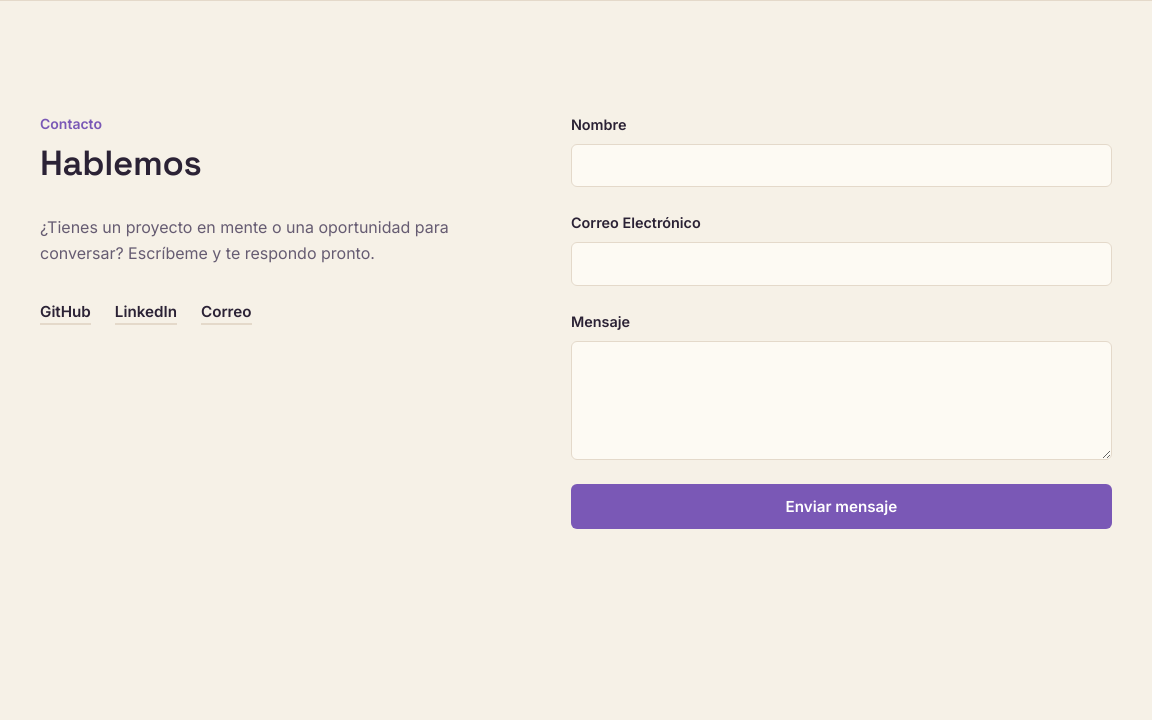
Test: Contact form › flags an invalid email format
In the field labelled "Nombre": (841, 166) [571,144,1112,187], type "Juana"
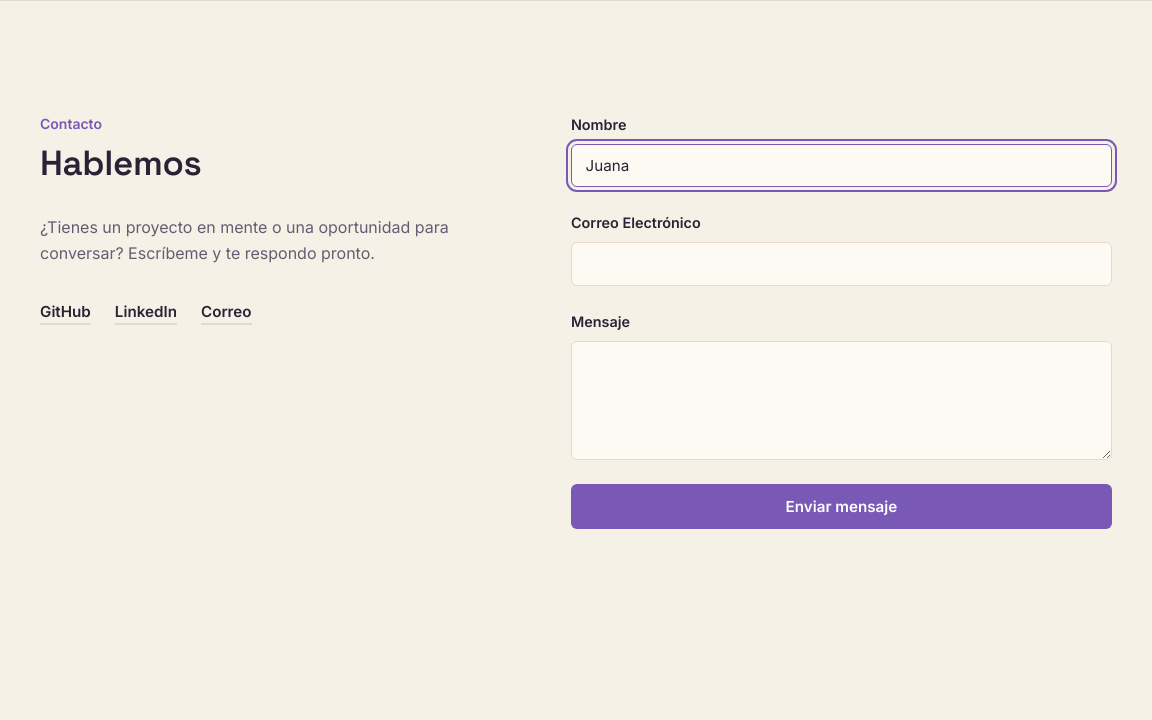
In the field labelled "Correo Electrónico": (841, 264) [571,242,1112,286], type "no-es-un-correo"
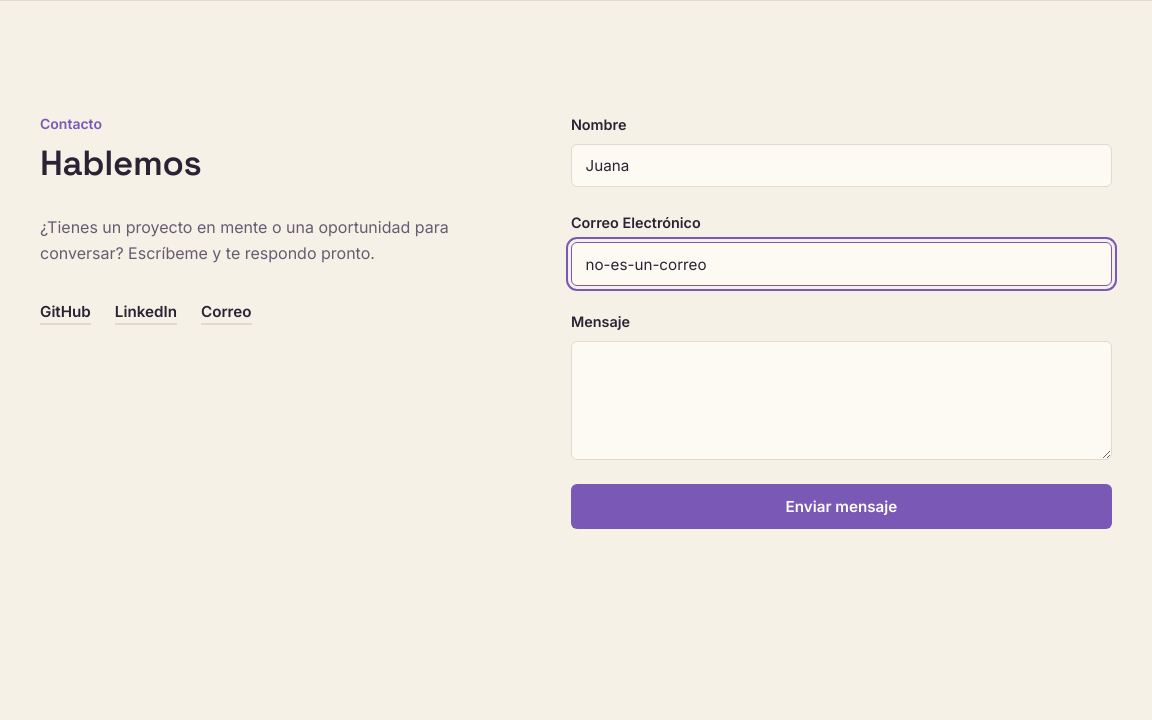
In the text box labelled "Mensaje": (841, 401) [571,341,1112,460], type "Hola, quiero conversar."
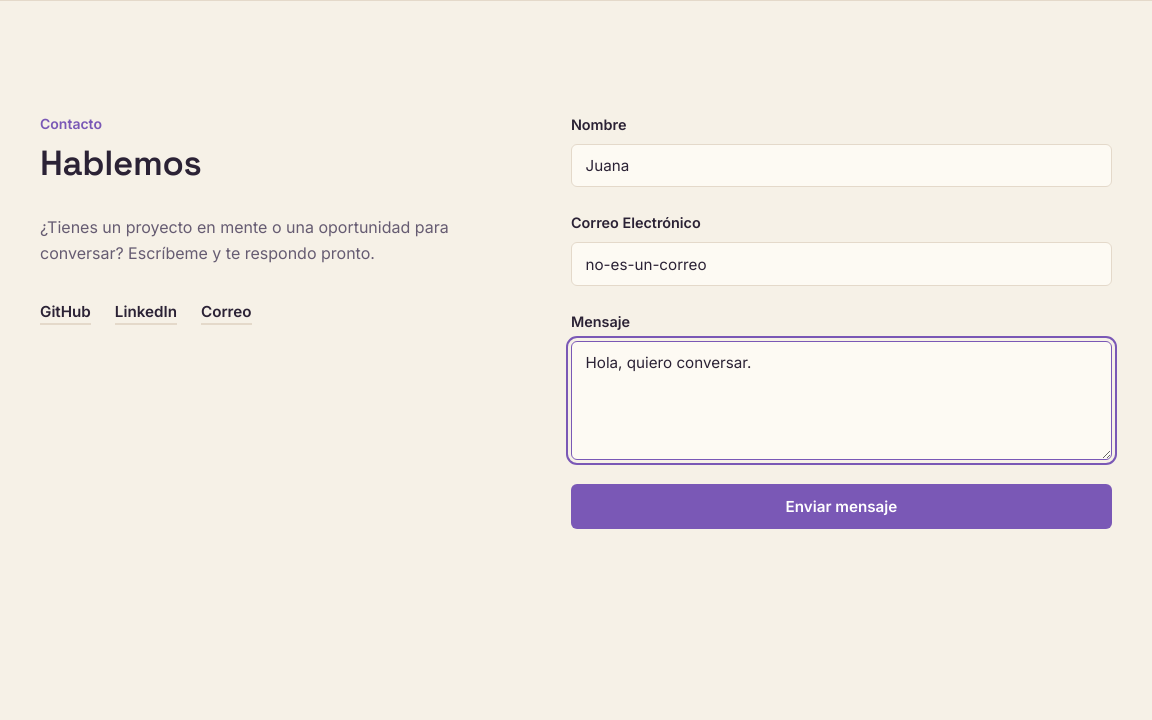
Click the button "Enviar mensaje": (841, 507) [571,484,1112,529]
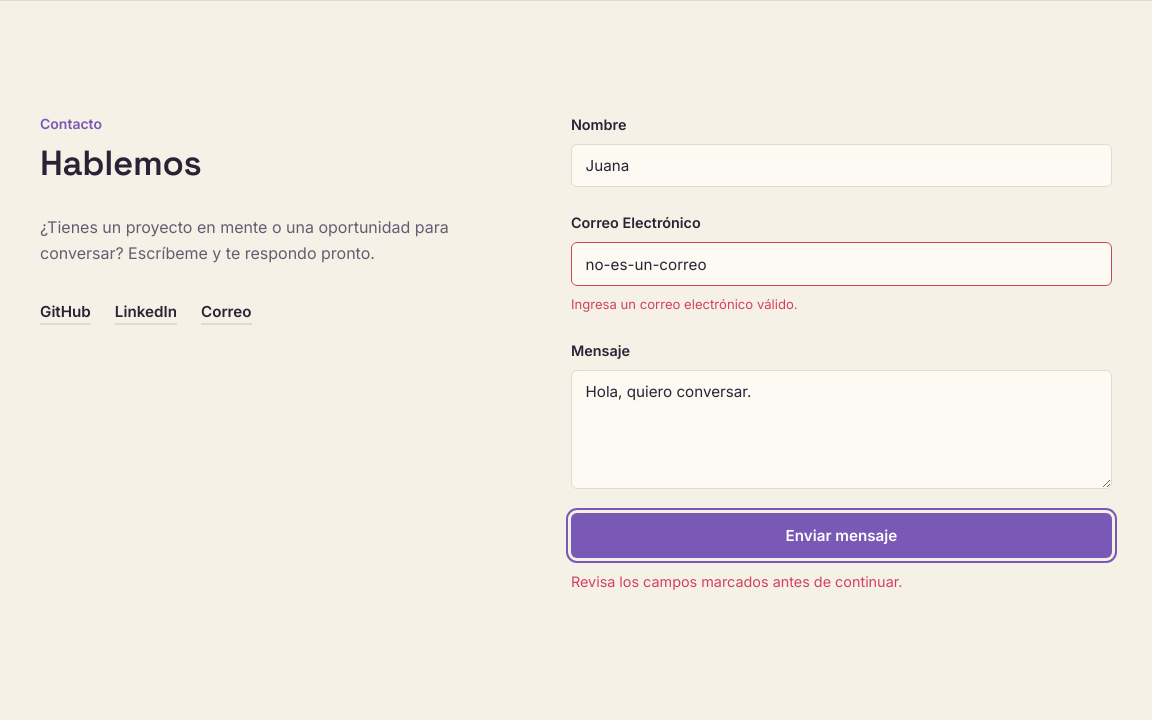
Expected: the text "Ingresa un correo electrónico válido." is shown, [571,296,798,312]
